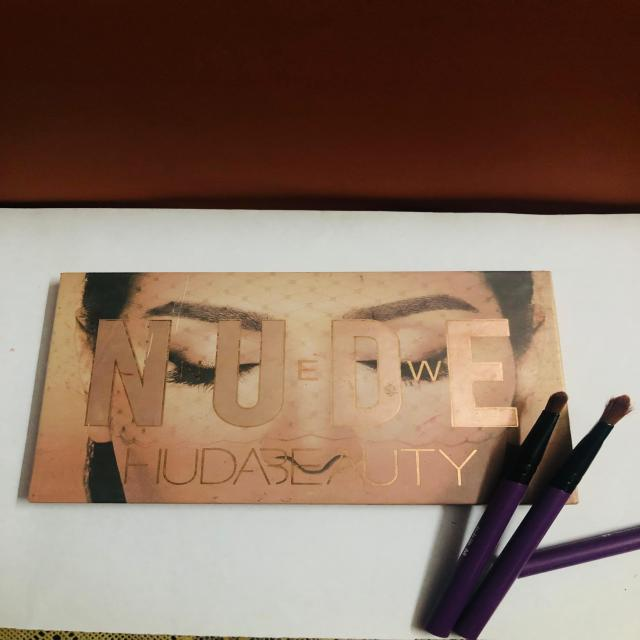makeup: (22, 262, 591, 526)
